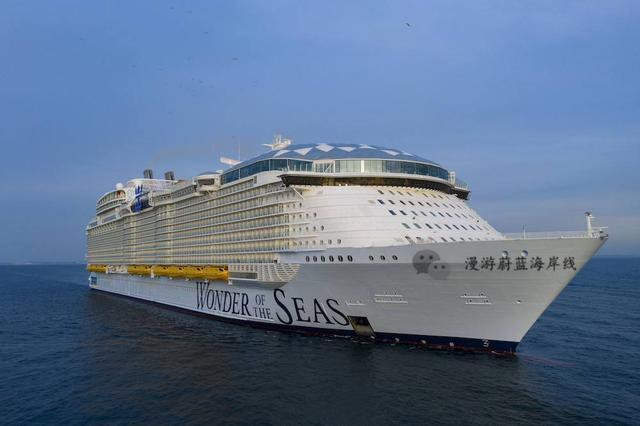Ship: (77, 97, 619, 344)
